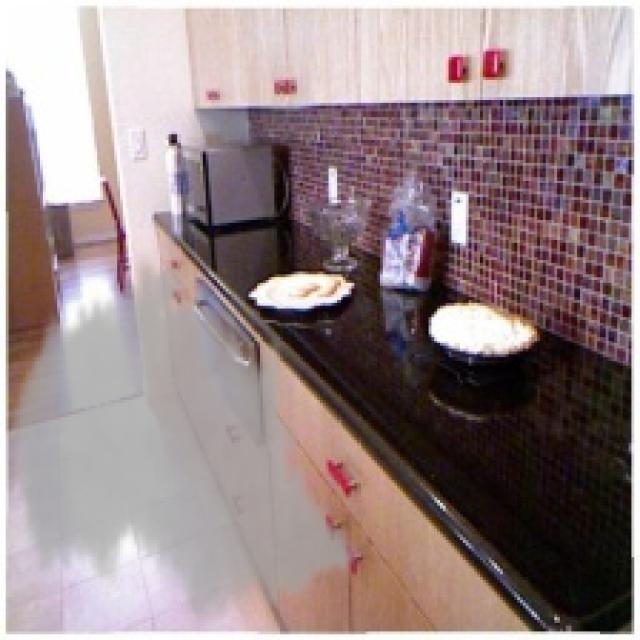smoke: (6, 252, 360, 637)
